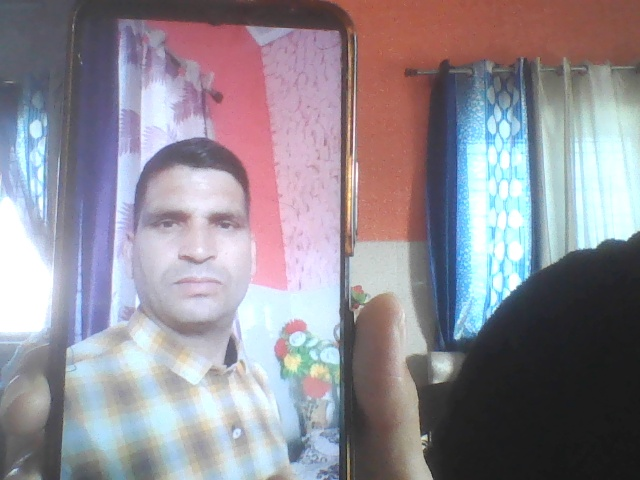fake: (118, 123, 264, 330)
